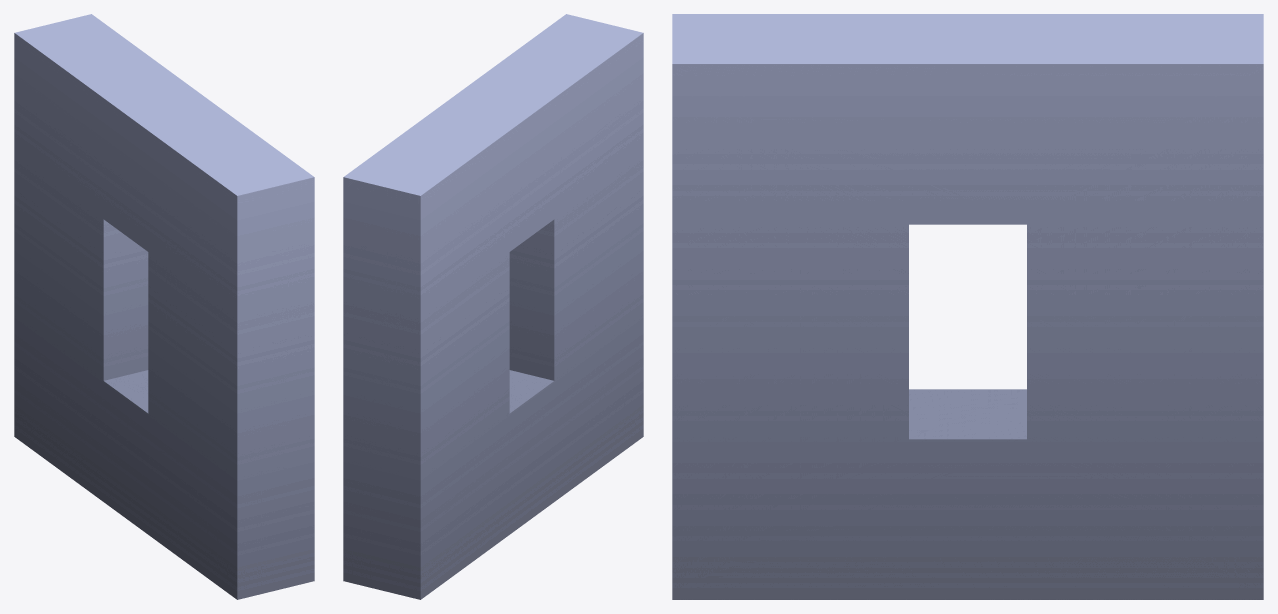
File: wall-window-cutout-small.glb
The picture shows the model from 3 angles, left to right: view 1: azimuth 30°, elevation 25°; view 2: azimuth 150°, elevation 25°; view 3: azimuth 270°, elevation 25°; orthographic projection. The views are drawn at different scales.
Visible parts, largest first — view 1: wall-window-cutout-small; view 2: wall-window-cutout-small; view 3: wall-window-cutout-small.
Part boxes in pixels (x1,y1,x2,y2): wall-window-cutout-small: [14, 14, 314, 599]; wall-window-cutout-small: [343, 14, 643, 599]; wall-window-cutout-small: [672, 14, 1263, 599].
Size of the model in its own units: 0.2 by 1 by 1.
Materials: 1 (1 with a texture image).
